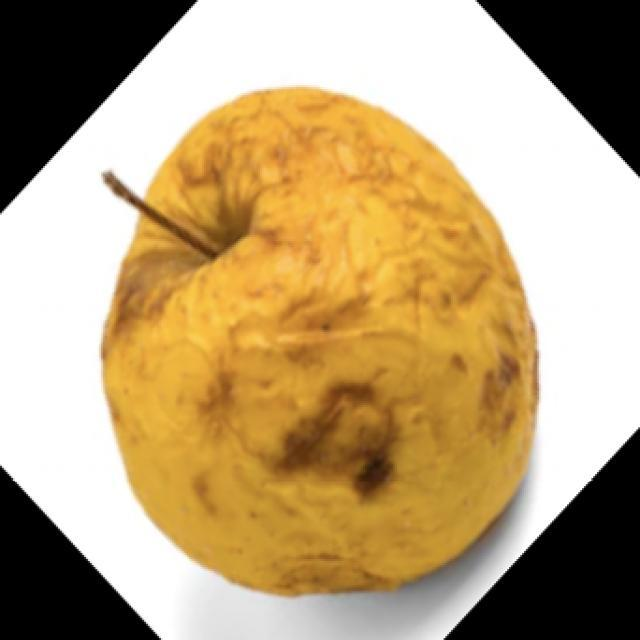Rotten: (97, 77, 575, 613)
